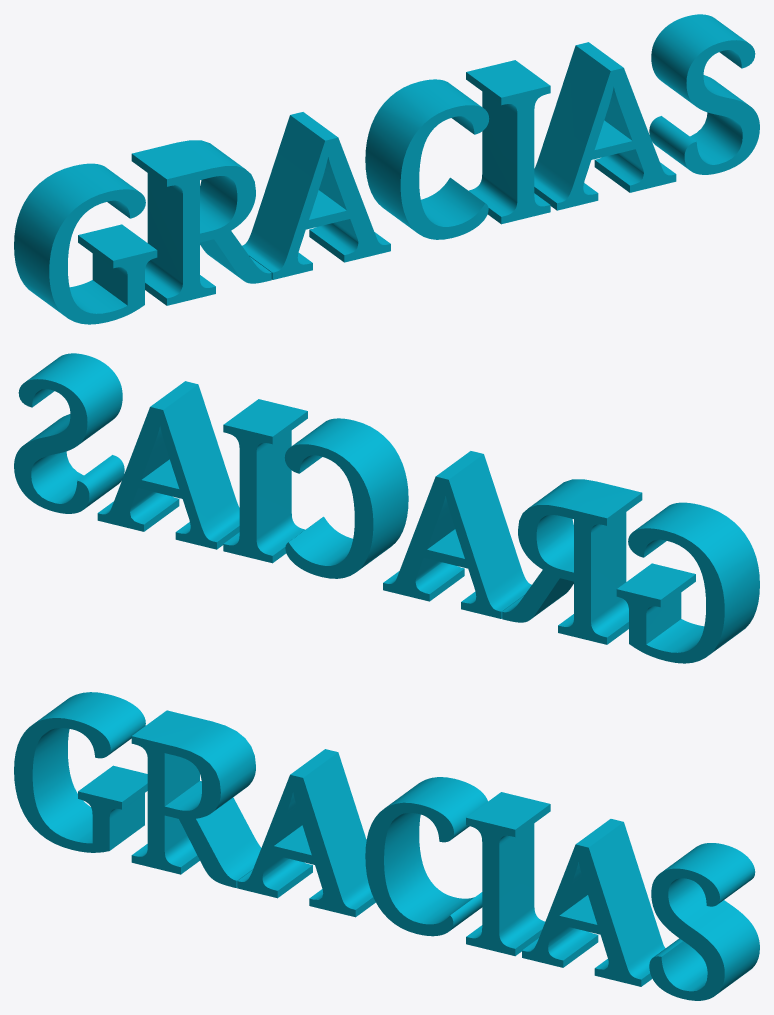
Rendered from thankyou.gltf.
3 renders of one model, top to bottom at view 1: azimuth 30°, elevation 25°; view 2: azimuth 150°, elevation 25°; view 3: azimuth 330°, elevation 25°, orthographic.
Bounding box in the file's own units: 117 × 20.4 × 10.
